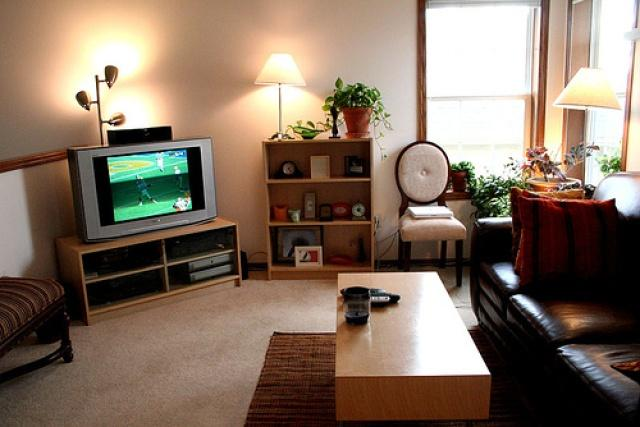AIO PC-Monitor-TV: (67, 136, 218, 242)
Kursi: (393, 138, 465, 286)
Rak: (262, 136, 375, 276)
